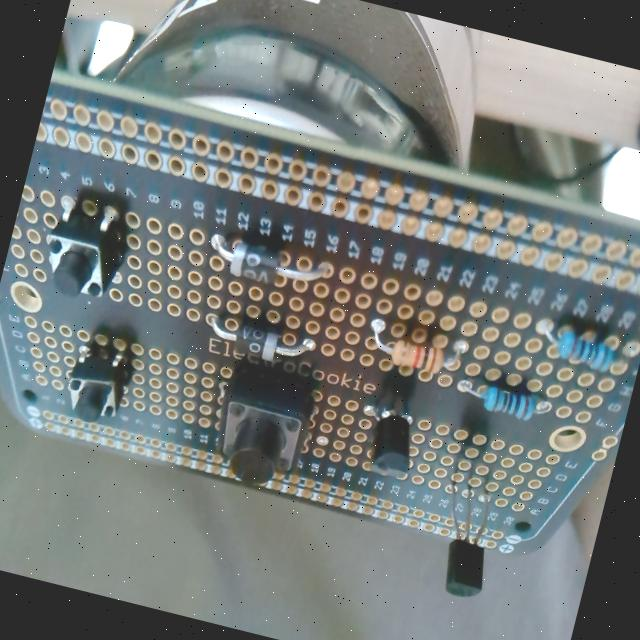diode: (212, 235, 313, 298), (206, 308, 304, 369)
resistor: (542, 317, 624, 383), (471, 376, 547, 430), (378, 328, 453, 378)
switch: (204, 363, 321, 494), (35, 195, 131, 310), (60, 344, 132, 430)
transistor: (416, 472, 512, 608), (350, 394, 427, 484)
